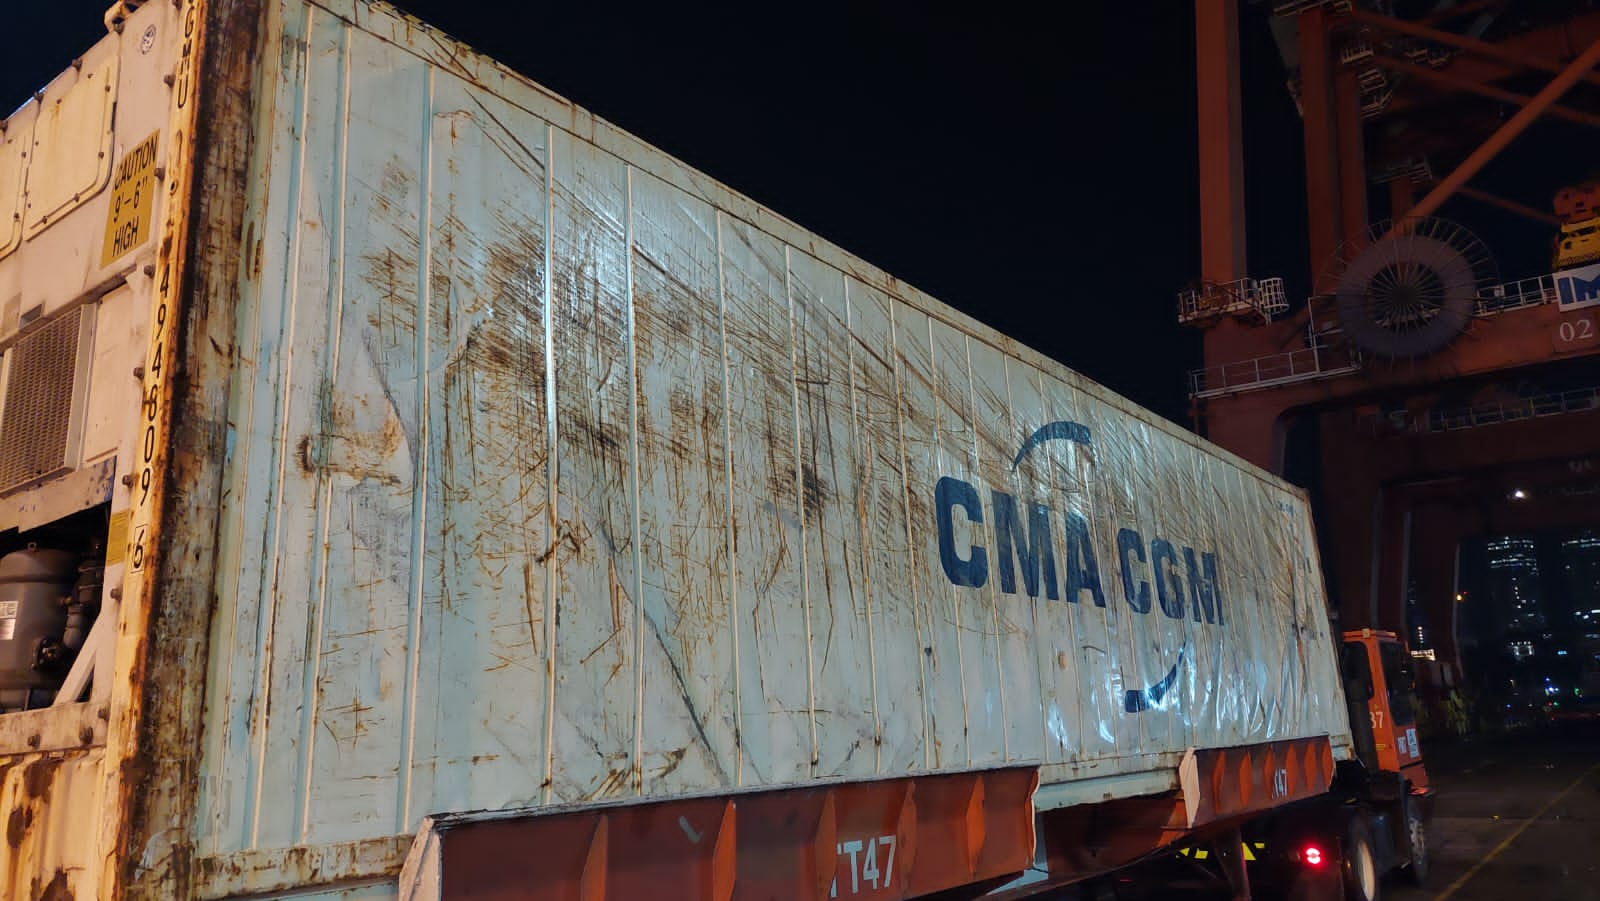cut: (268, 402, 397, 536)
